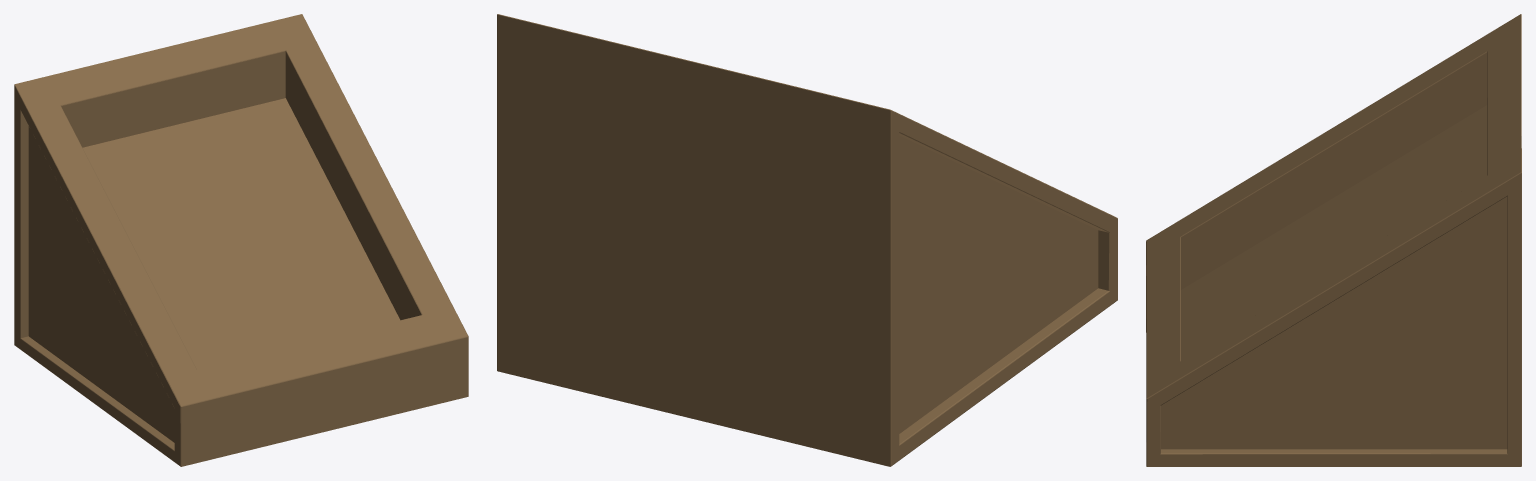
The model's file is Fruit Box.fbx.
3 views of the same model, side by side, from view 1: azimuth 30°, elevation 25°; view 2: azimuth 150°, elevation 25°; view 3: azimuth 270°, elevation 25° (orthographic). The views are drawn at different scales.
Parts seen in each view (by area): view 1: Cube.120; view 2: Cube.120; view 3: Cube.120.
Part boxes in pixels (x1,y1,x2,y2): Cube.120: (14,14,468,466); Cube.120: (497,14,1117,466); Cube.120: (1146,14,1521,466).
Size of the model in its own units: 60.05 by 51.93 by 60.05.
